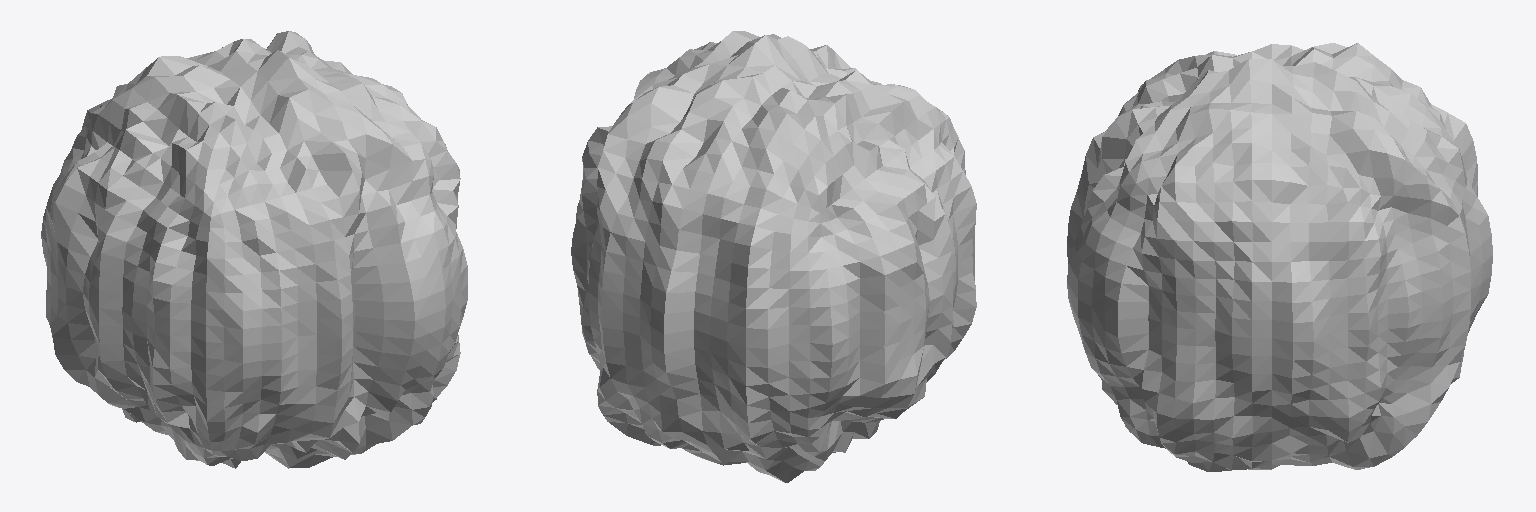
File: asteroid104.obj
The picture shows the model from 3 angles: view 1: azimuth 30°, elevation 25°; view 2: azimuth 150°, elevation 25°; view 3: azimuth 270°, elevation 25°; orthographic projection.
Parts seen in each view (by area): view 1: Cube_Cube.002; view 2: Cube_Cube.002; view 3: Cube_Cube.002.
Boxes of the visible parts, box(x1,y1,x2,y2) form: Cube_Cube.002: box(41, 31, 467, 468); Cube_Cube.002: box(571, 31, 976, 482); Cube_Cube.002: box(1067, 43, 1492, 471).
Size of the model in its own units: 1.76 by 1.96 by 1.84.